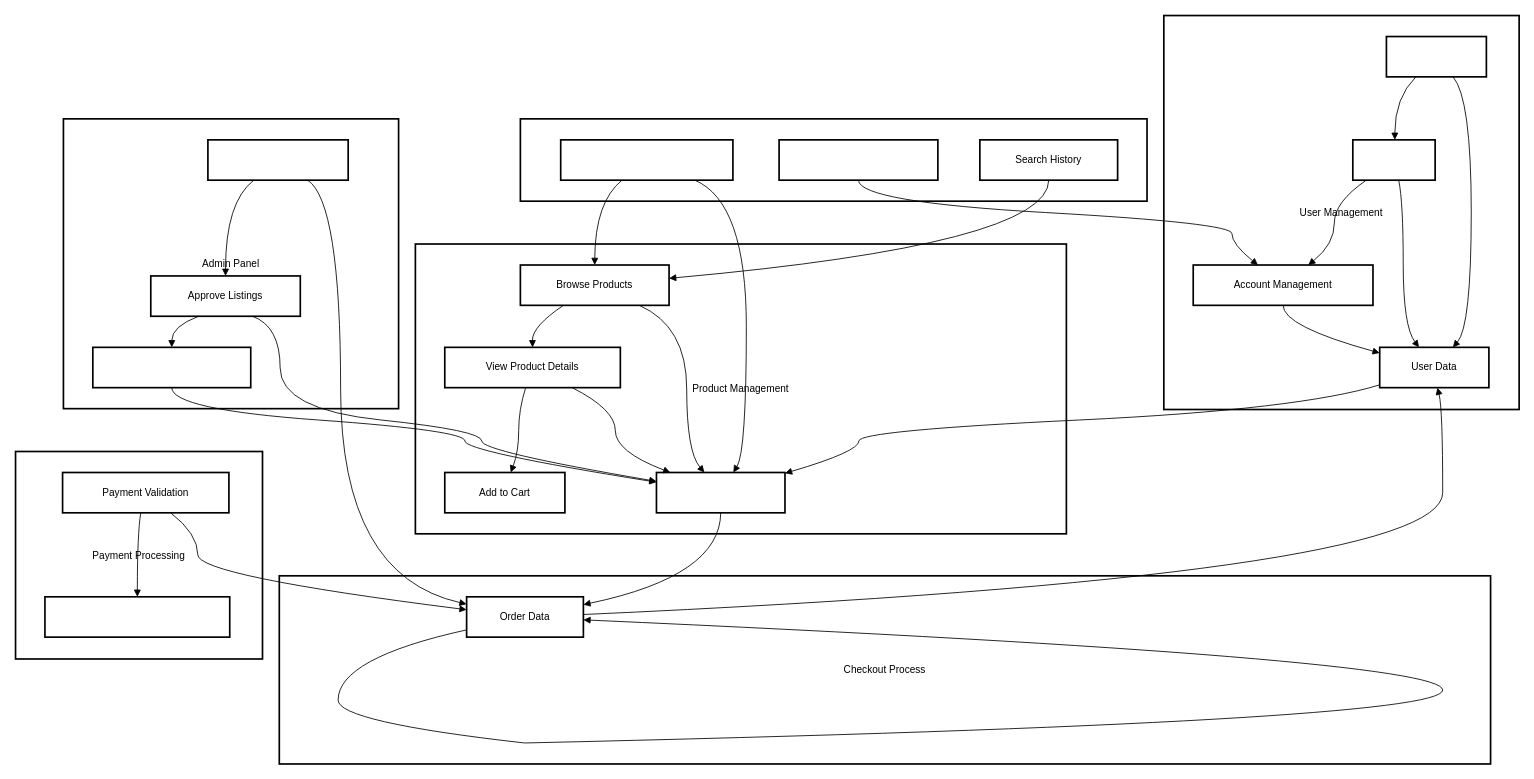
This 1534x779 diagram has some shape labels left out. The shapes that lost their labels are listed below. From the top down, each one's centre as x and y in pixels, then its label:
At (x=1436, y=56): "Register".
At (x=278, y=160): "Manage Orders".
At (x=646, y=160): "Fetch Special Offers".
At (x=858, y=160): "Push Notifications".
At (x=1394, y=160): "Login".
At (x=171, y=367): "Manage Inventory".
At (x=720, y=492): "Product Data".
At (x=137, y=617): "Payment Confirmation".
